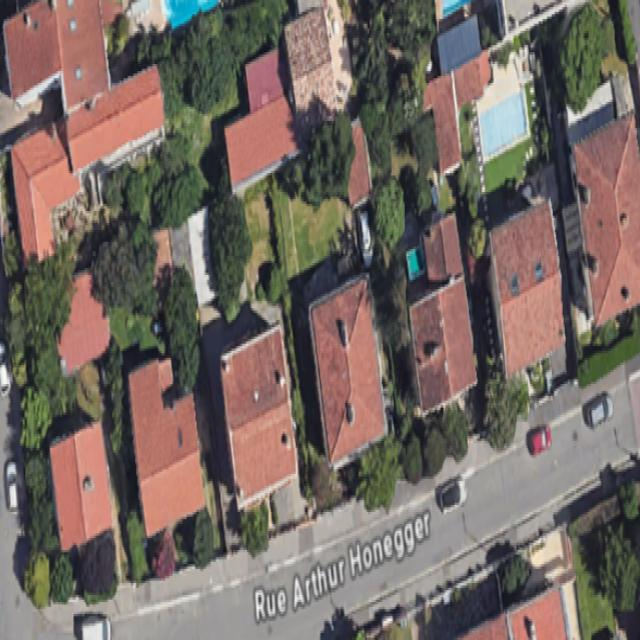maison: (393, 214, 482, 410), (479, 199, 575, 375), (304, 275, 390, 465), (213, 325, 300, 508), (568, 113, 640, 322), (124, 356, 207, 536), (48, 422, 113, 550)
